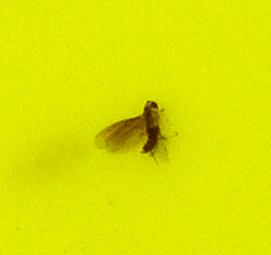Hemiptera: (100, 100, 171, 155)
